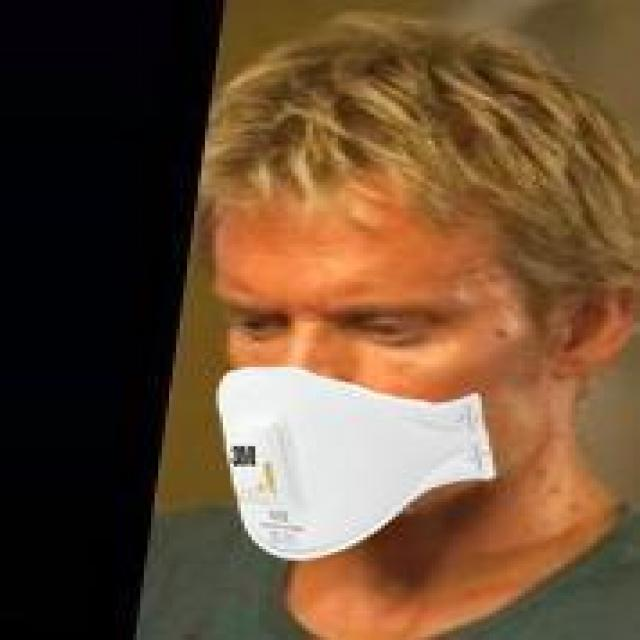mask: (144, 41, 640, 534)
